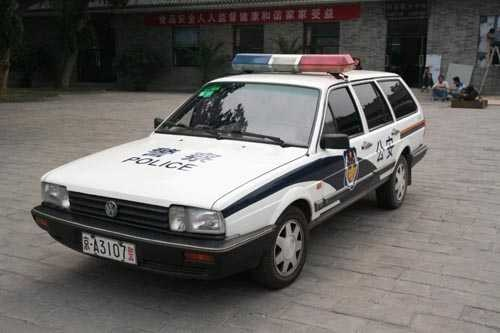Police Car: (49, 35, 416, 302)
